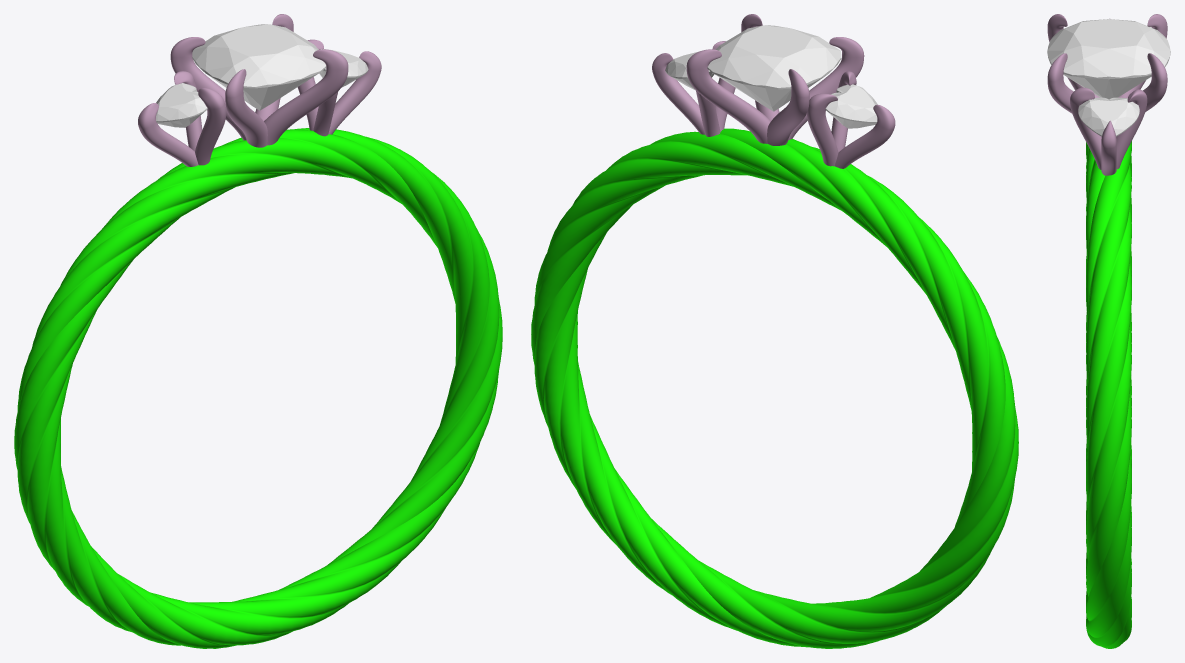
3 views of the same model, side by side, from view 1: azimuth 30°, elevation 25°; view 2: azimuth 150°, elevation 25°; view 3: azimuth 270°, elevation 25° (orthographic).
Visible parts, largest first — view 1: 3stoneringcusion2heart.3dm; view 2: 3stoneringcusion2heart.3dm; view 3: 3stoneringcusion2heart.3dm.
Part boxes in pixels (<box>): 3stoneringcusion2heart.3dm: <box>14,14,502,648</box>; 3stoneringcusion2heart.3dm: <box>531,14,1018,648</box>; 3stoneringcusion2heart.3dm: <box>1047,14,1170,648</box>.
Bounding box in the file's own units: 2.55 × 3.03 × 0.5739.
